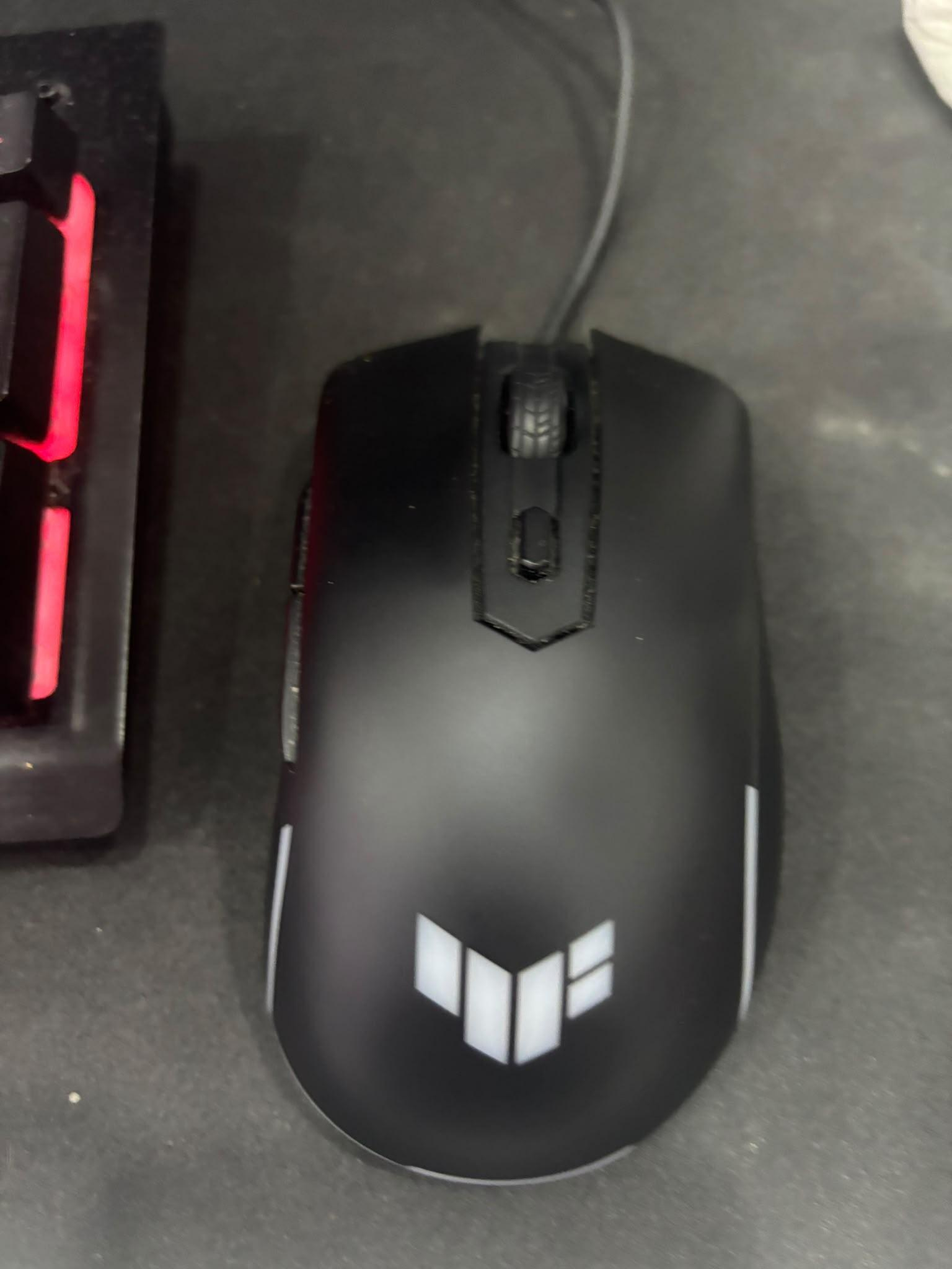cable: (525, 0, 636, 351)
keyboard: (0, 19, 171, 854)
mouse: (263, 323, 781, 1191)
